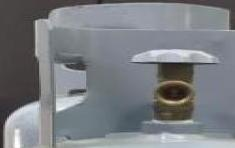cylinder: (1, 1, 235, 148)
